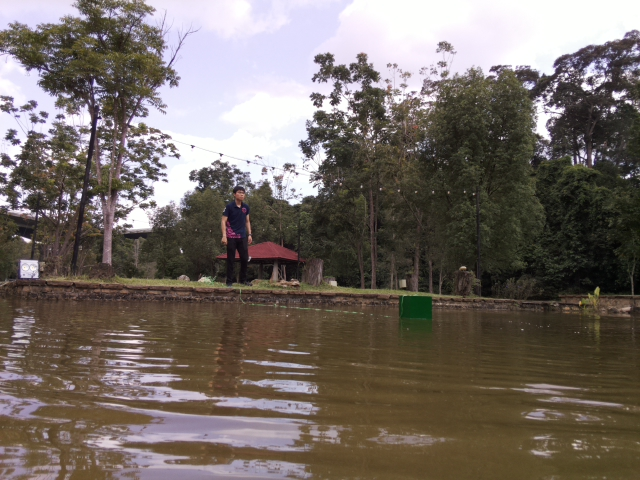obstacle: (396, 293, 434, 323)
